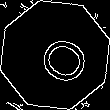O_NW: (22, 24, 88, 86)
